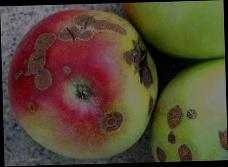rotten apple: (6, 4, 155, 162), (148, 57, 227, 162)
